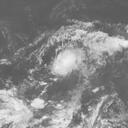cyclone: (49, 48, 85, 77)
